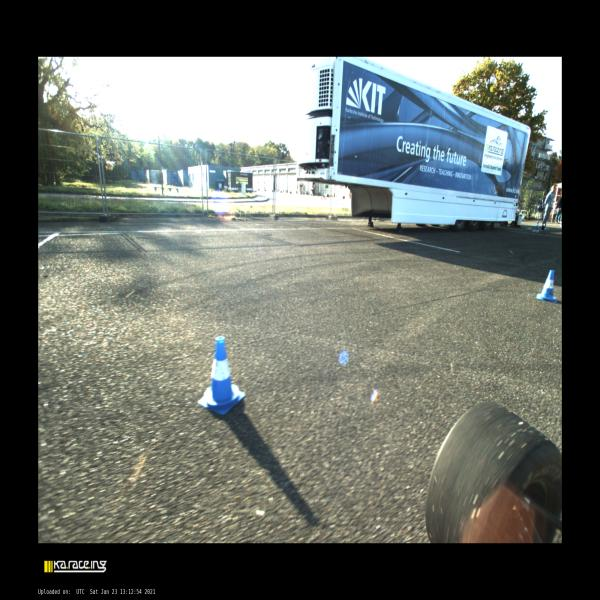blue_cone: (197, 335, 246, 415), (536, 269, 557, 304), (534, 220, 540, 230)
